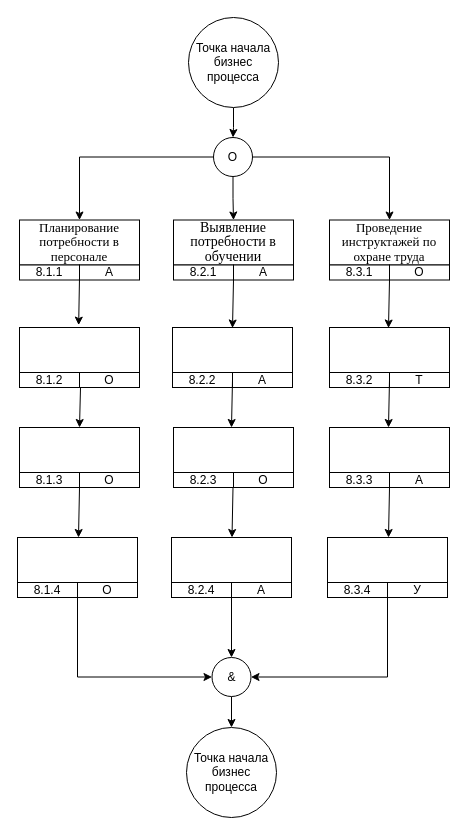
Some shapes in this 467 by 835 pixel diagram are drawn without their labels. The box of each missing label's shape, as (x1, y1, x2, y2) in pixels:
Контроль соблюдения норм безопасности: (328, 326, 450, 372)
Организация адаптации новых сотрудников: (16, 536, 138, 582)
Организация обучающих мероприятий: (172, 426, 294, 472)
Оформление приема на работу: (18, 426, 140, 472)
Оценка эффективности обучения: (170, 536, 292, 582)
Планирование обучения: (172, 326, 292, 372)
Поиск и подбор кандидатов: (18, 326, 140, 372)
Расследование несчастных случаев: (328, 426, 450, 472)
Учет рабочего времени: (326, 536, 448, 582)
